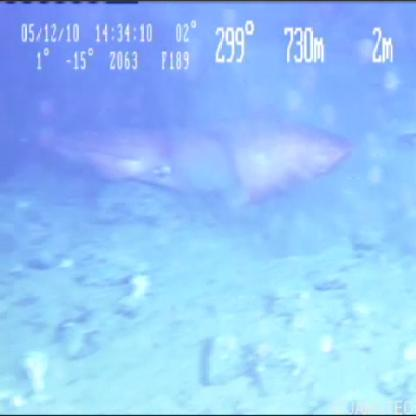Bio: (23, 110, 362, 211)
